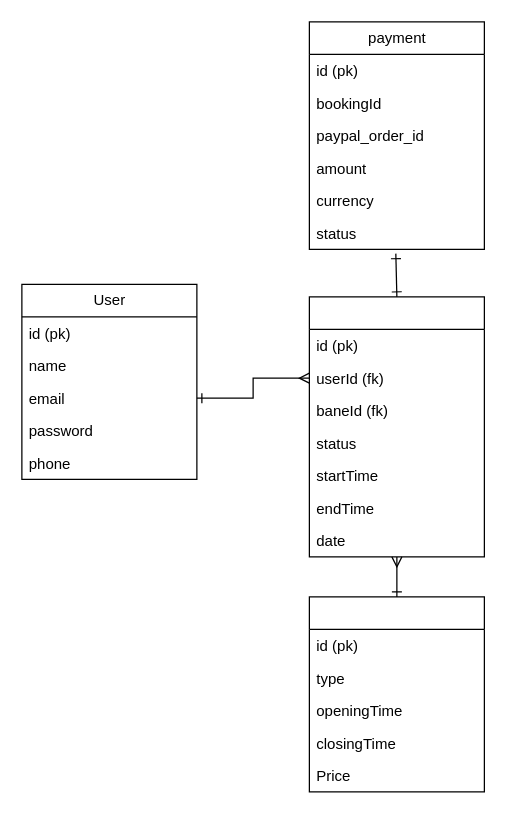
The diagram is 506 pixels wide and 818 high, and some of its shapes have lost their labels. The shapes that lost their labels are listed below. From the top down, each one's box as (x1, y1, x2, y2) in pixels, then its label:
(308, 296, 484, 557): bookings
(308, 596, 484, 792): baner
